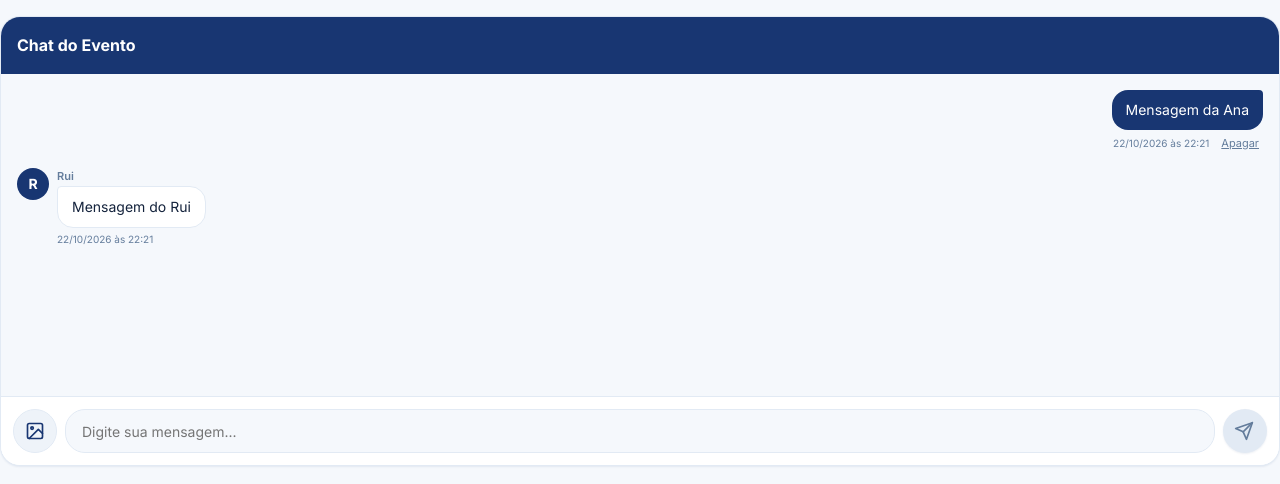
Scenario: Componente ChatBoard › apaga depois de confirmar
Check: the text "Mensagem da Ana" is shown, box x1=1126 y1=101 x2=1249 y2=118
Click the button "Apagar": (1240, 143) x1=1217 y1=134 x2=1263 y2=152
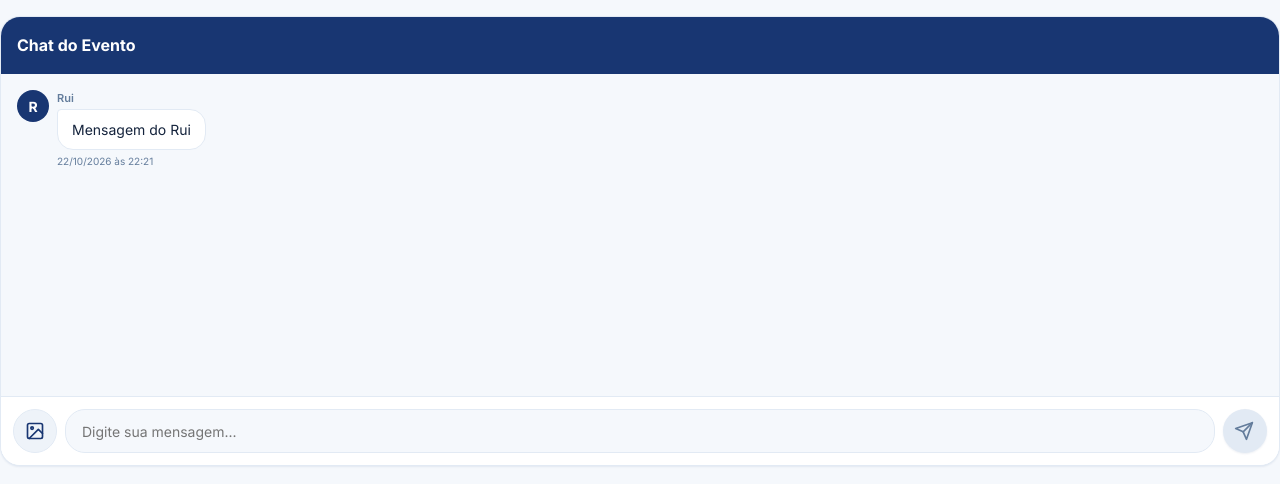
Check: the text "Mensagem da Ana" is gone
